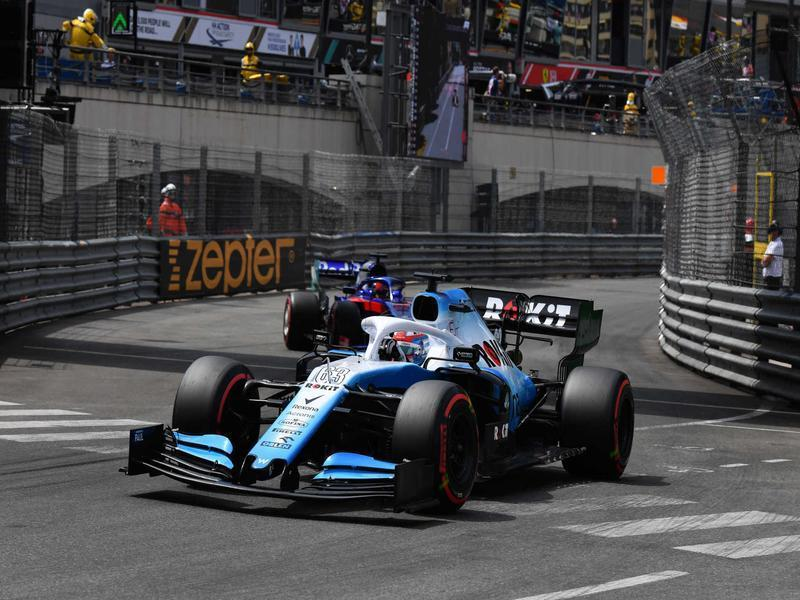f1: (151, 274, 627, 513)
